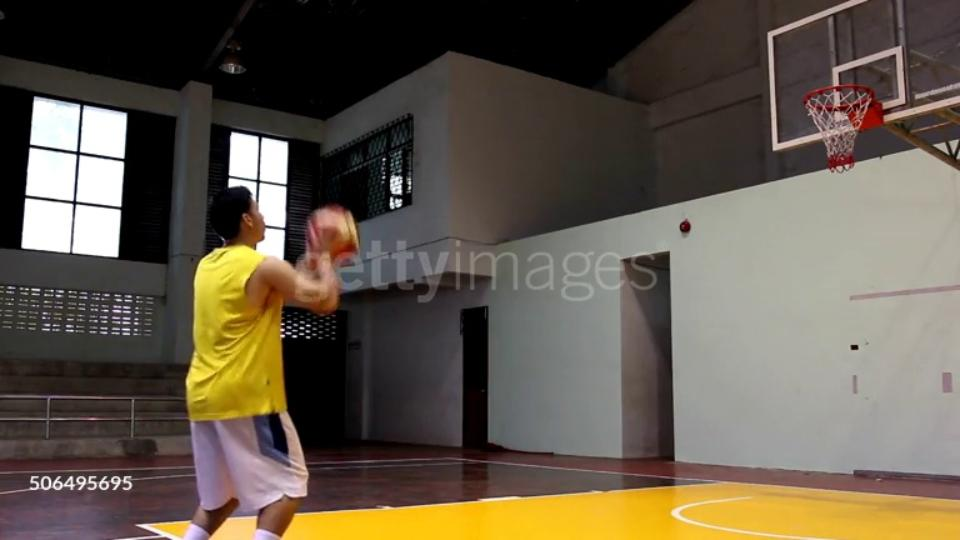hoop: (802, 84, 875, 130)
